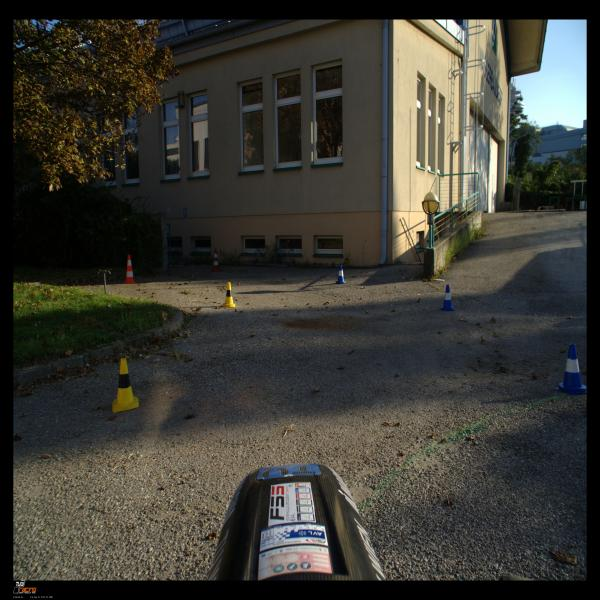blue_cone: (554, 343, 586, 395), (439, 285, 456, 311), (337, 265, 346, 284)
large_orange_cone: (123, 255, 137, 284), (211, 248, 221, 272)
yellow_cone: (112, 358, 139, 412), (222, 282, 235, 307)
